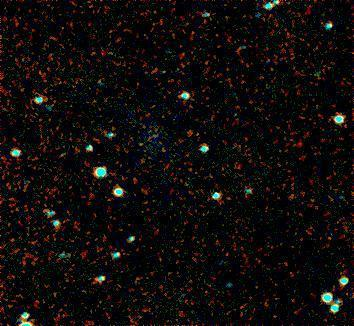star: (312, 10, 342, 40)
